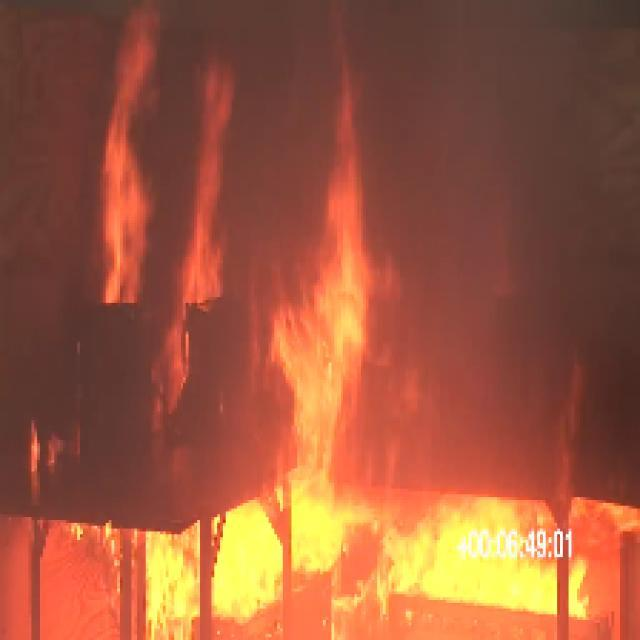Fire: (95, 17, 616, 631)
